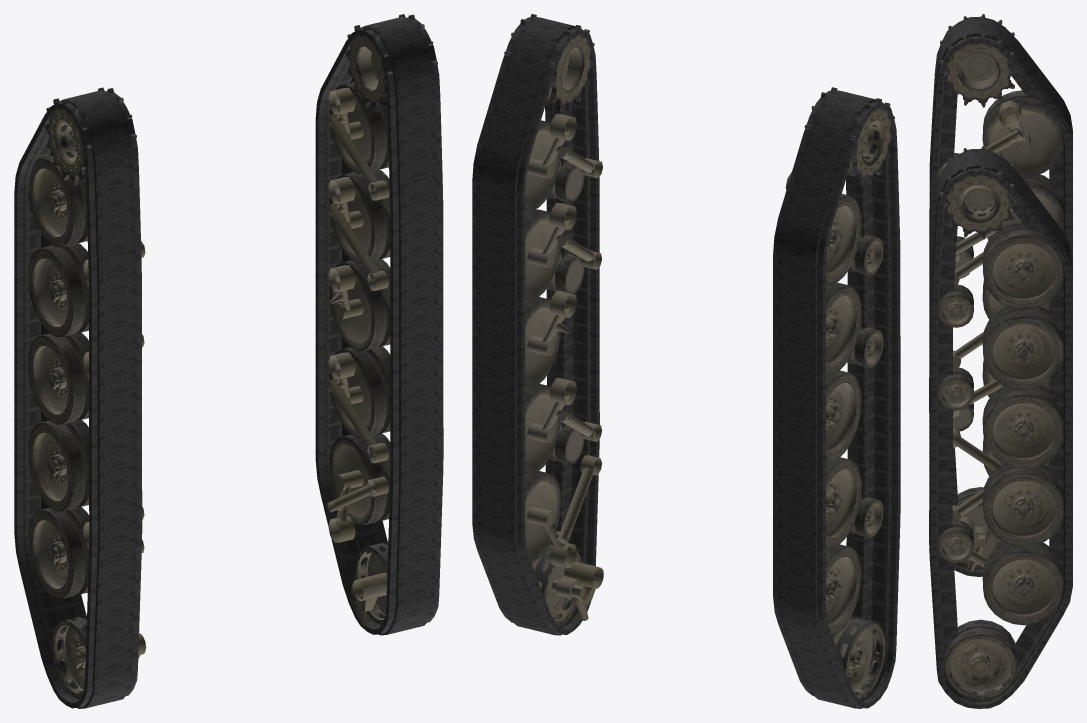
File: Chassis.glb
3 renders of one model, left to right at view 1: azimuth 30°, elevation 25°; view 2: azimuth 150°, elevation 25°; view 3: azimuth 270°, elevation 25°, orthographic. The views are drawn at different scales.
Parts seen in each view (by area): view 1: set_3_group_0, set_2_group_0, set_0_group_0, set_1_group_0; view 2: set_3_group_0, set_2_group_0, set_0_group_0, set_1_group_0; view 3: set_0_group_0, set_2_group_0, set_1_group_0, set_3_group_0.
Boxes of the visible parts, left/top/right/bottom form: set_3_group_0: left=14, top=90, right=142, bottom=708; set_2_group_0: left=315, top=17, right=443, bottom=635; set_0_group_0: left=327, top=14, right=437, bottom=626; set_1_group_0: left=28, top=87, right=146, bottom=698; set_3_group_0: left=773, top=90, right=900, bottom=708; set_2_group_0: left=472, top=17, right=599, bottom=635; set_0_group_0: left=504, top=14, right=603, bottom=625; set_1_group_0: left=785, top=87, right=894, bottom=699; set_0_group_0: left=938, top=146, right=1063, bottom=700; set_2_group_0: left=929, top=148, right=1072, bottom=708; set_1_group_0: left=939, top=14, right=1063, bottom=571; set_3_group_0: left=929, top=16, right=1072, bottom=576.
Size of the model in its own units: 2.88 by 4.71 by 1.13.
Materials: 4 (4 with a texture image).
